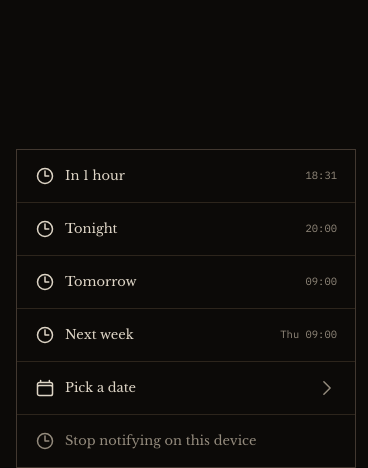
the reminder panel's date picker › goes back to the times without setting anything
What coordinates should you click on to do the following:
click the menu item "Pick a date"
I would click on:
 (101, 387)
Its box is [17,361,355,414].
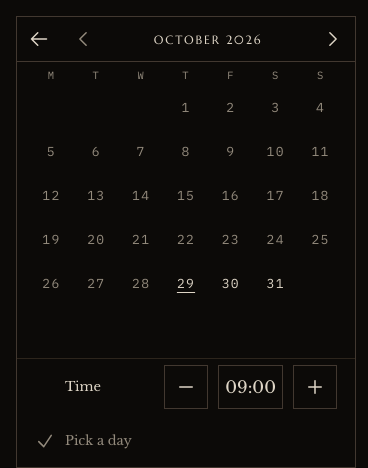
Expected: the element named "Day" is shown, [17,86,355,358]
What coordinates should you click on to do the following:
click the button named "Back to reminder times"
I would click on:
 (39, 40)
Its box is [17,18,61,62].
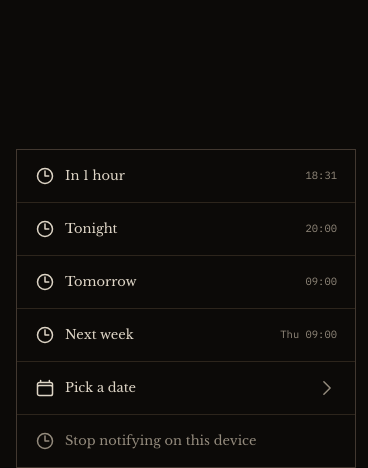
Expected: the menu item "Pick a date" is shown, [17,361,355,414]
